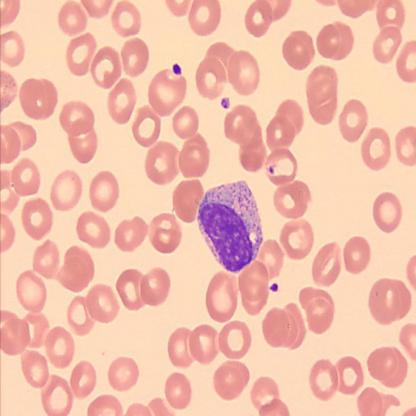Myelocyte: (199, 182, 265, 270)
